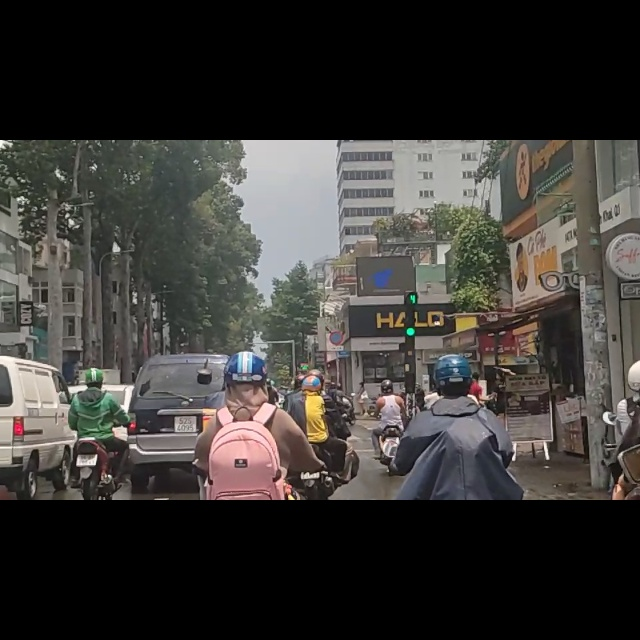bien_cam: (328, 338, 345, 364)
